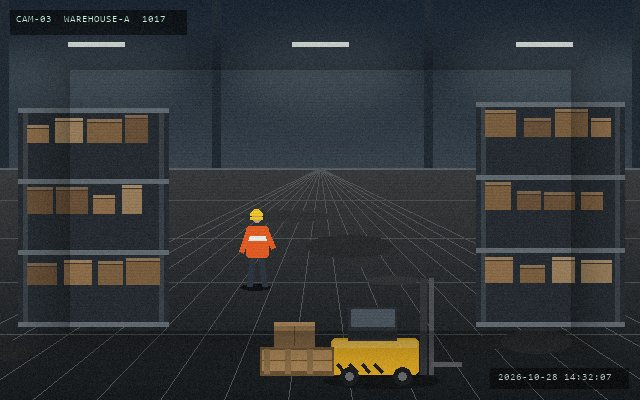forklift: (327, 276, 463, 388)
pallet: (258, 345, 335, 377)
person: (239, 207, 275, 289)
shelf: (476, 102, 624, 322), (18, 108, 168, 322)
